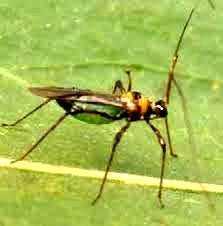Helopeltis-insect: (41, 85, 175, 130)
